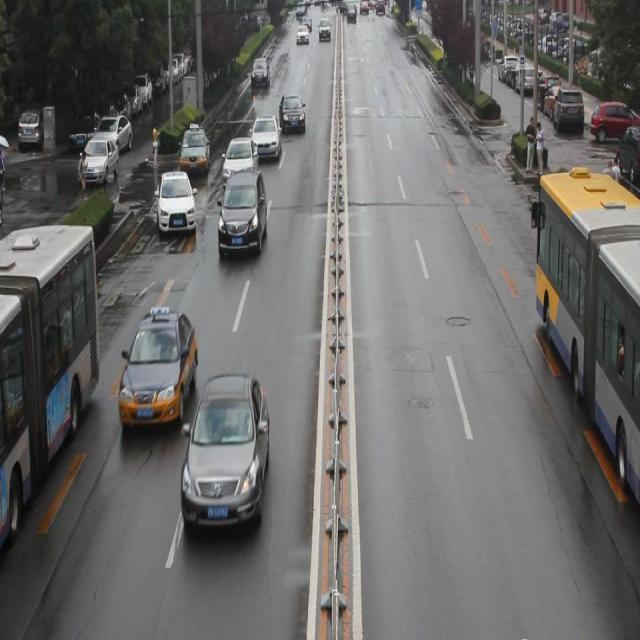car: (182, 375, 266, 532), (120, 310, 196, 430), (216, 172, 265, 256), (156, 170, 196, 240), (222, 135, 258, 190), (179, 125, 210, 177), (249, 113, 280, 164), (278, 96, 304, 136)
van: (530, 178, 640, 508), (1, 226, 99, 544)
